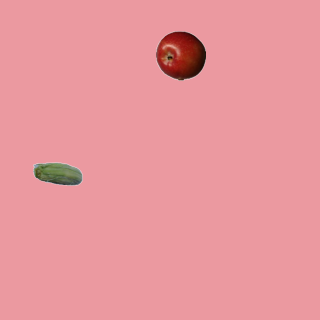Apple Braeburn: (155, 30, 205, 80)
Corn Husk: (32, 150, 82, 200)
